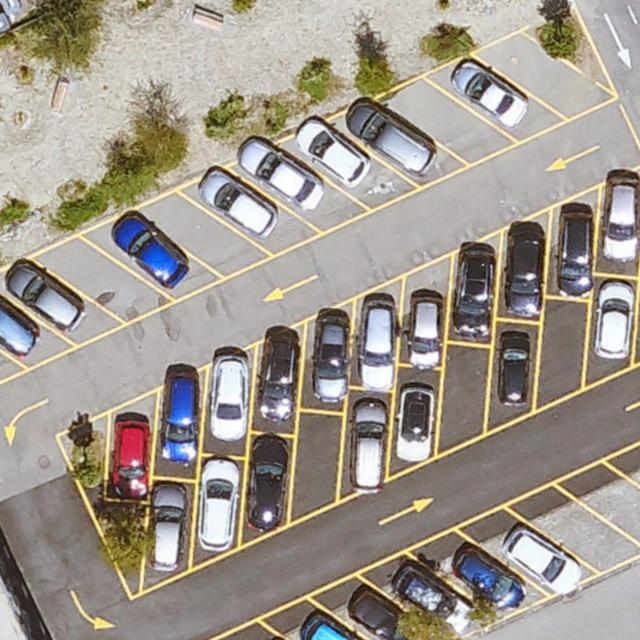tree: (23, 0, 100, 67), (127, 85, 183, 157), (98, 511, 153, 570), (395, 605, 451, 640), (355, 56, 394, 97), (535, 21, 577, 58), (72, 447, 103, 490)
